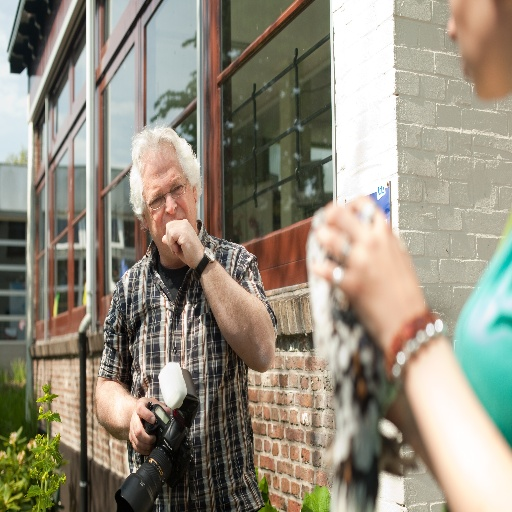hand: (305, 199, 445, 370), (127, 394, 170, 457), (160, 218, 205, 268)
